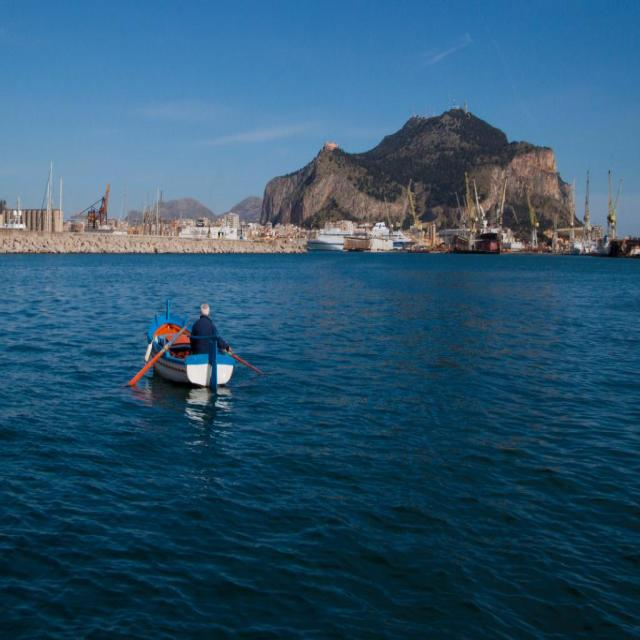Boat: (144, 294, 236, 390), (304, 226, 351, 251)
